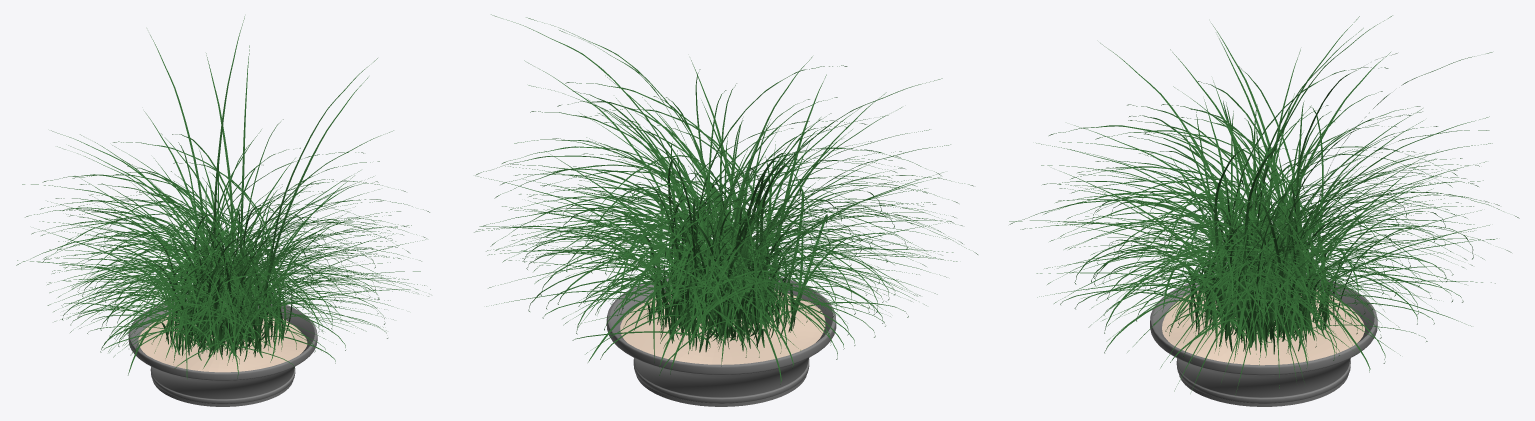
The picture shows the model from 3 angles, left to right: view 1: azimuth 30°, elevation 25°; view 2: azimuth 150°, elevation 25°; view 3: azimuth 270°, elevation 25°; orthographic projection. The views are drawn at different scales.
Visible parts, largest first — view 1: arch24_044_08, arch24_044_07, arch24_044_09, arch24_044_05, arch24_044_06; view 2: arch24_044_08, arch24_044_07, arch24_044_09, arch24_044_05, arch24_044_06; view 3: arch24_044_08, arch24_044_07, arch24_044_09, arch24_044_05, arch24_044_06.
Part boxes in pixels (left/top/right/bottom): arch24_044_08: left=16, top=119, right=430, bottom=379; arch24_044_07: left=61, top=209, right=387, bottom=378; arch24_044_09: left=17, top=16, right=425, bottom=355; arch24_044_05: left=128, top=297, right=317, bottom=406; arch24_044_06: left=138, top=314, right=307, bottom=372; arch24_044_08: left=474, top=65, right=977, bottom=354; arch24_044_07: left=523, top=167, right=908, bottom=384; arch24_044_09: left=477, top=14, right=957, bottom=341; arch24_044_05: left=606, top=270, right=836, bottom=406; arch24_044_06: left=620, top=290, right=825, bottom=364; arch24_044_08: left=1009, top=66, right=1519, bottom=395; arch24_044_07: left=1060, top=164, right=1473, bottom=372; arch24_044_09: left=1009, top=15, right=1497, bottom=347; arch24_044_05: left=1150, top=275, right=1377, bottom=406; arch24_044_06: left=1162, top=290, right=1364, bottom=365.
Bounding box in the file's own units: 429 × 335 × 426.
